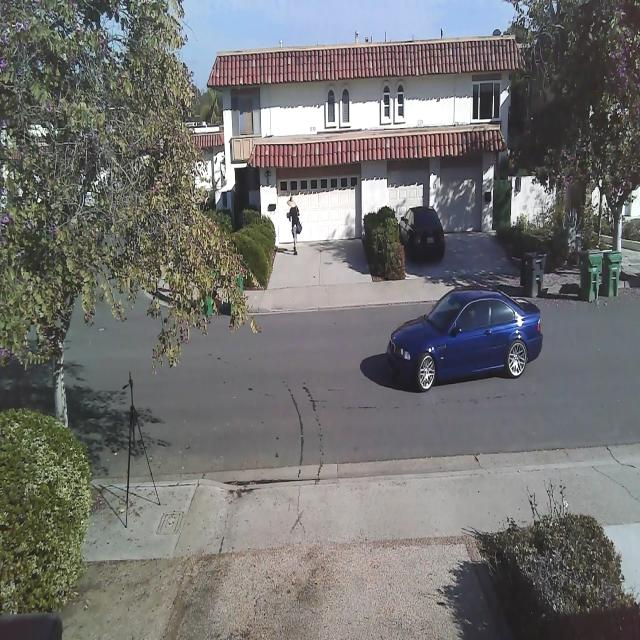Carbeetle: (381, 280, 547, 398)
Civilian: (399, 205, 445, 263)
